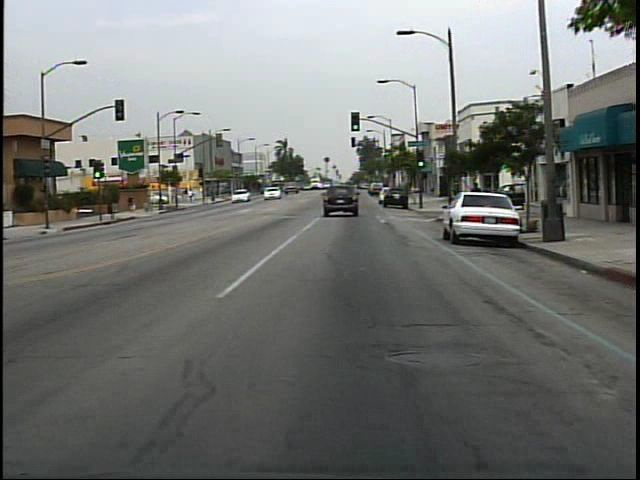person: (467, 178, 487, 217), (124, 192, 143, 221), (187, 187, 196, 206)
